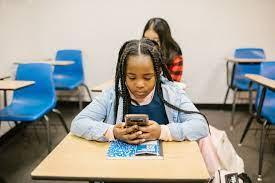phone: (70, 39, 210, 143)
